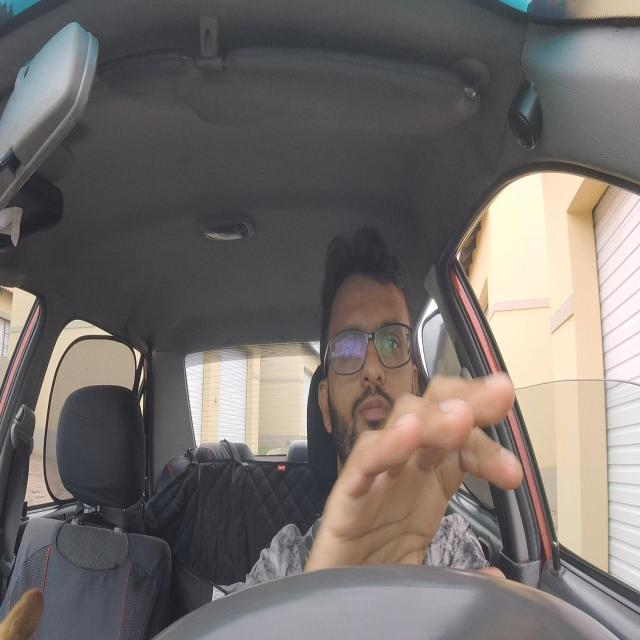open: (376, 318, 406, 368), (336, 320, 364, 370)
